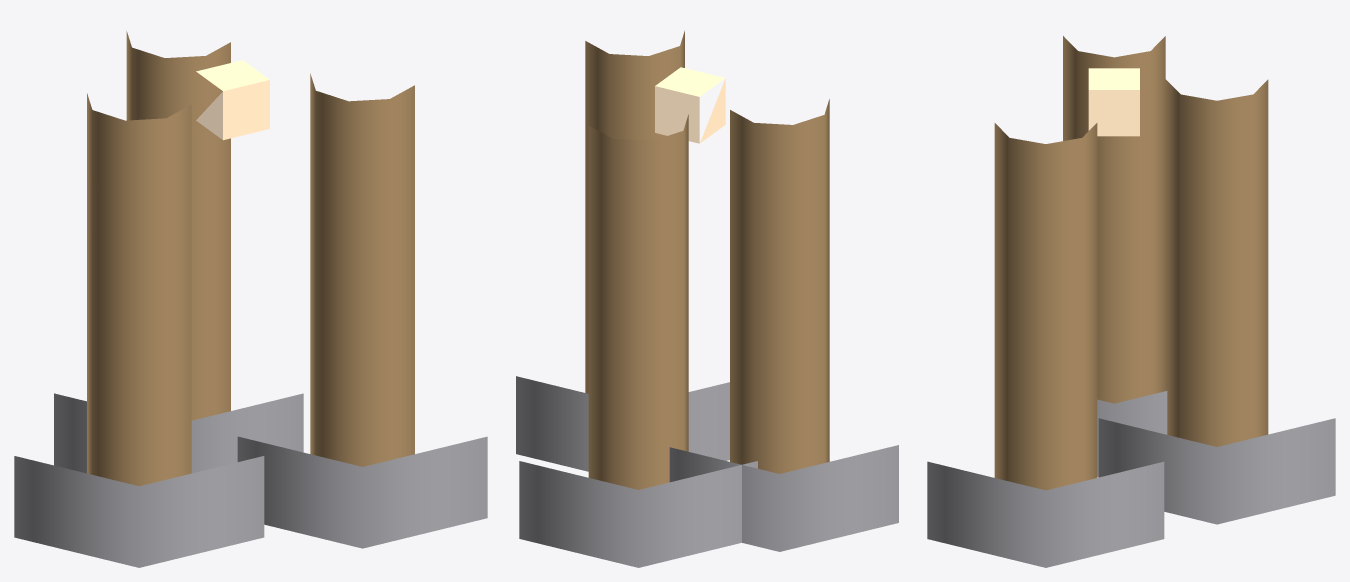
The model's file is tornillos_pernos.glb.
3 views of the same model, side by side, from view 1: azimuth 30°, elevation 25°; view 2: azimuth 150°, elevation 25°; view 3: azimuth 270°, elevation 25° (orthographic). The views are drawn at different scales.
Visible parts, largest first — view 1: Accent, Base, Glow; view 2: Accent, Base, Glow; view 3: Accent, Base, Glow.
Boxes of the visible parts, x1=… form: Accent: x1=87, y1=31, x2=414, y2=486; Base: x1=14, y1=393, x2=487, y2=567; Glow: x1=196, y1=60, x2=269, y2=140; Accent: x1=585, y1=30, x2=829, y2=489; Base: x1=516, y1=376, x2=898, y2=567; Glow: x1=655, y1=67, x2=725, y2=143; Accent: x1=994, y1=36, x2=1268, y2=490; Base: x1=927, y1=391, x2=1335, y2=567; Glow: x1=1088, y1=68, x2=1139, y2=136.
Bounding box in the file's own units: 0.28 × 0.25 × 0.2386.
